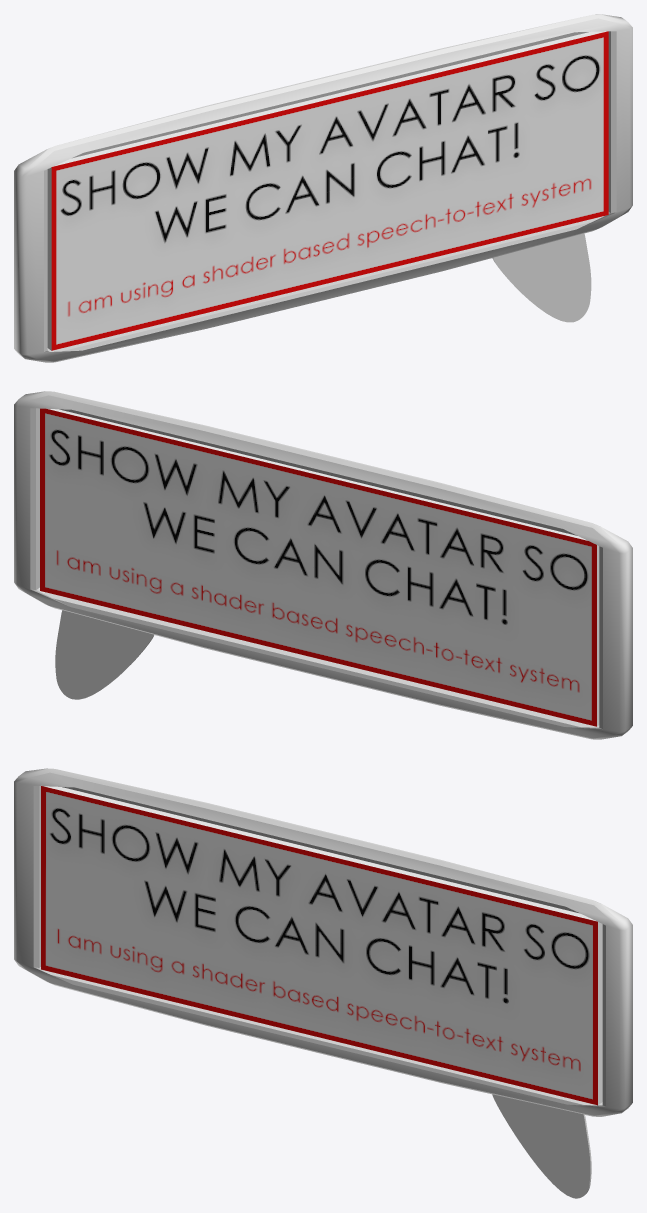
Rendered from Billboard.fbx.
3 renders of one model, top to bottom at view 1: azimuth 30°, elevation 25°; view 2: azimuth 150°, elevation 25°; view 3: azimuth 330°, elevation 25°, orthographic.
Visible parts, largest first — view 1: showmyavatar, Billboard_V6; view 2: showmyavatar, Billboard_V6; view 3: showmyavatar, Billboard_V6.
Boxes of the visible parts, x1,y1,x2,y2 form: showmyavatar: [47, 31, 608, 350]; Billboard_V6: [14, 14, 632, 362]; showmyavatar: [40, 408, 599, 726]; Billboard_V6: [14, 391, 632, 739]; showmyavatar: [41, 785, 602, 1105]; Billboard_V6: [14, 768, 632, 1198].
Bounding box in the file's own units: 63.06 × 30.08 × 1.89.
